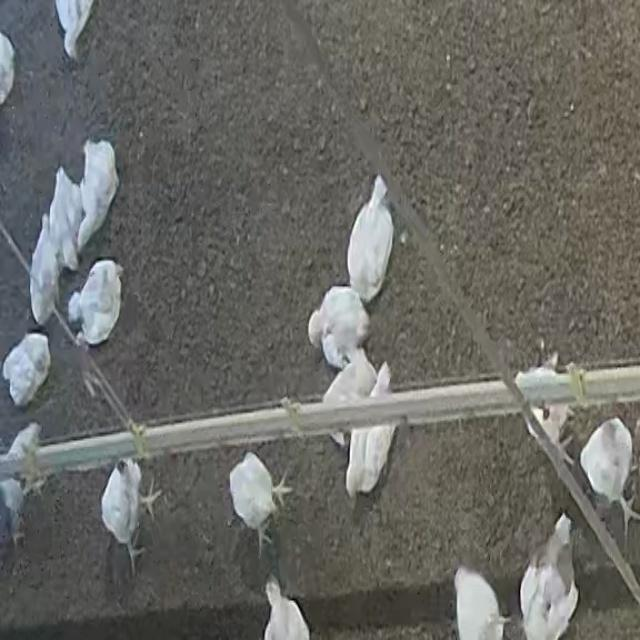chicken: (514, 505, 588, 640), (577, 413, 640, 542), (224, 452, 298, 556), (346, 173, 401, 306), (102, 460, 162, 571), (303, 280, 372, 367), (67, 257, 126, 345)
